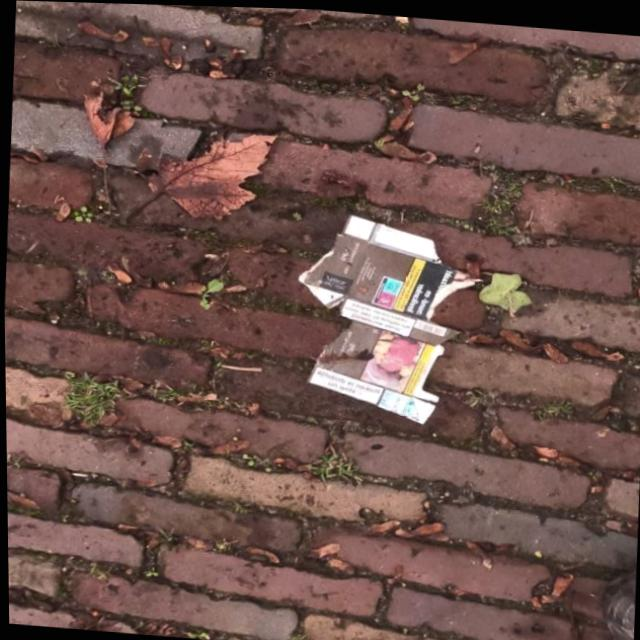Paper: (287, 205, 489, 428)
